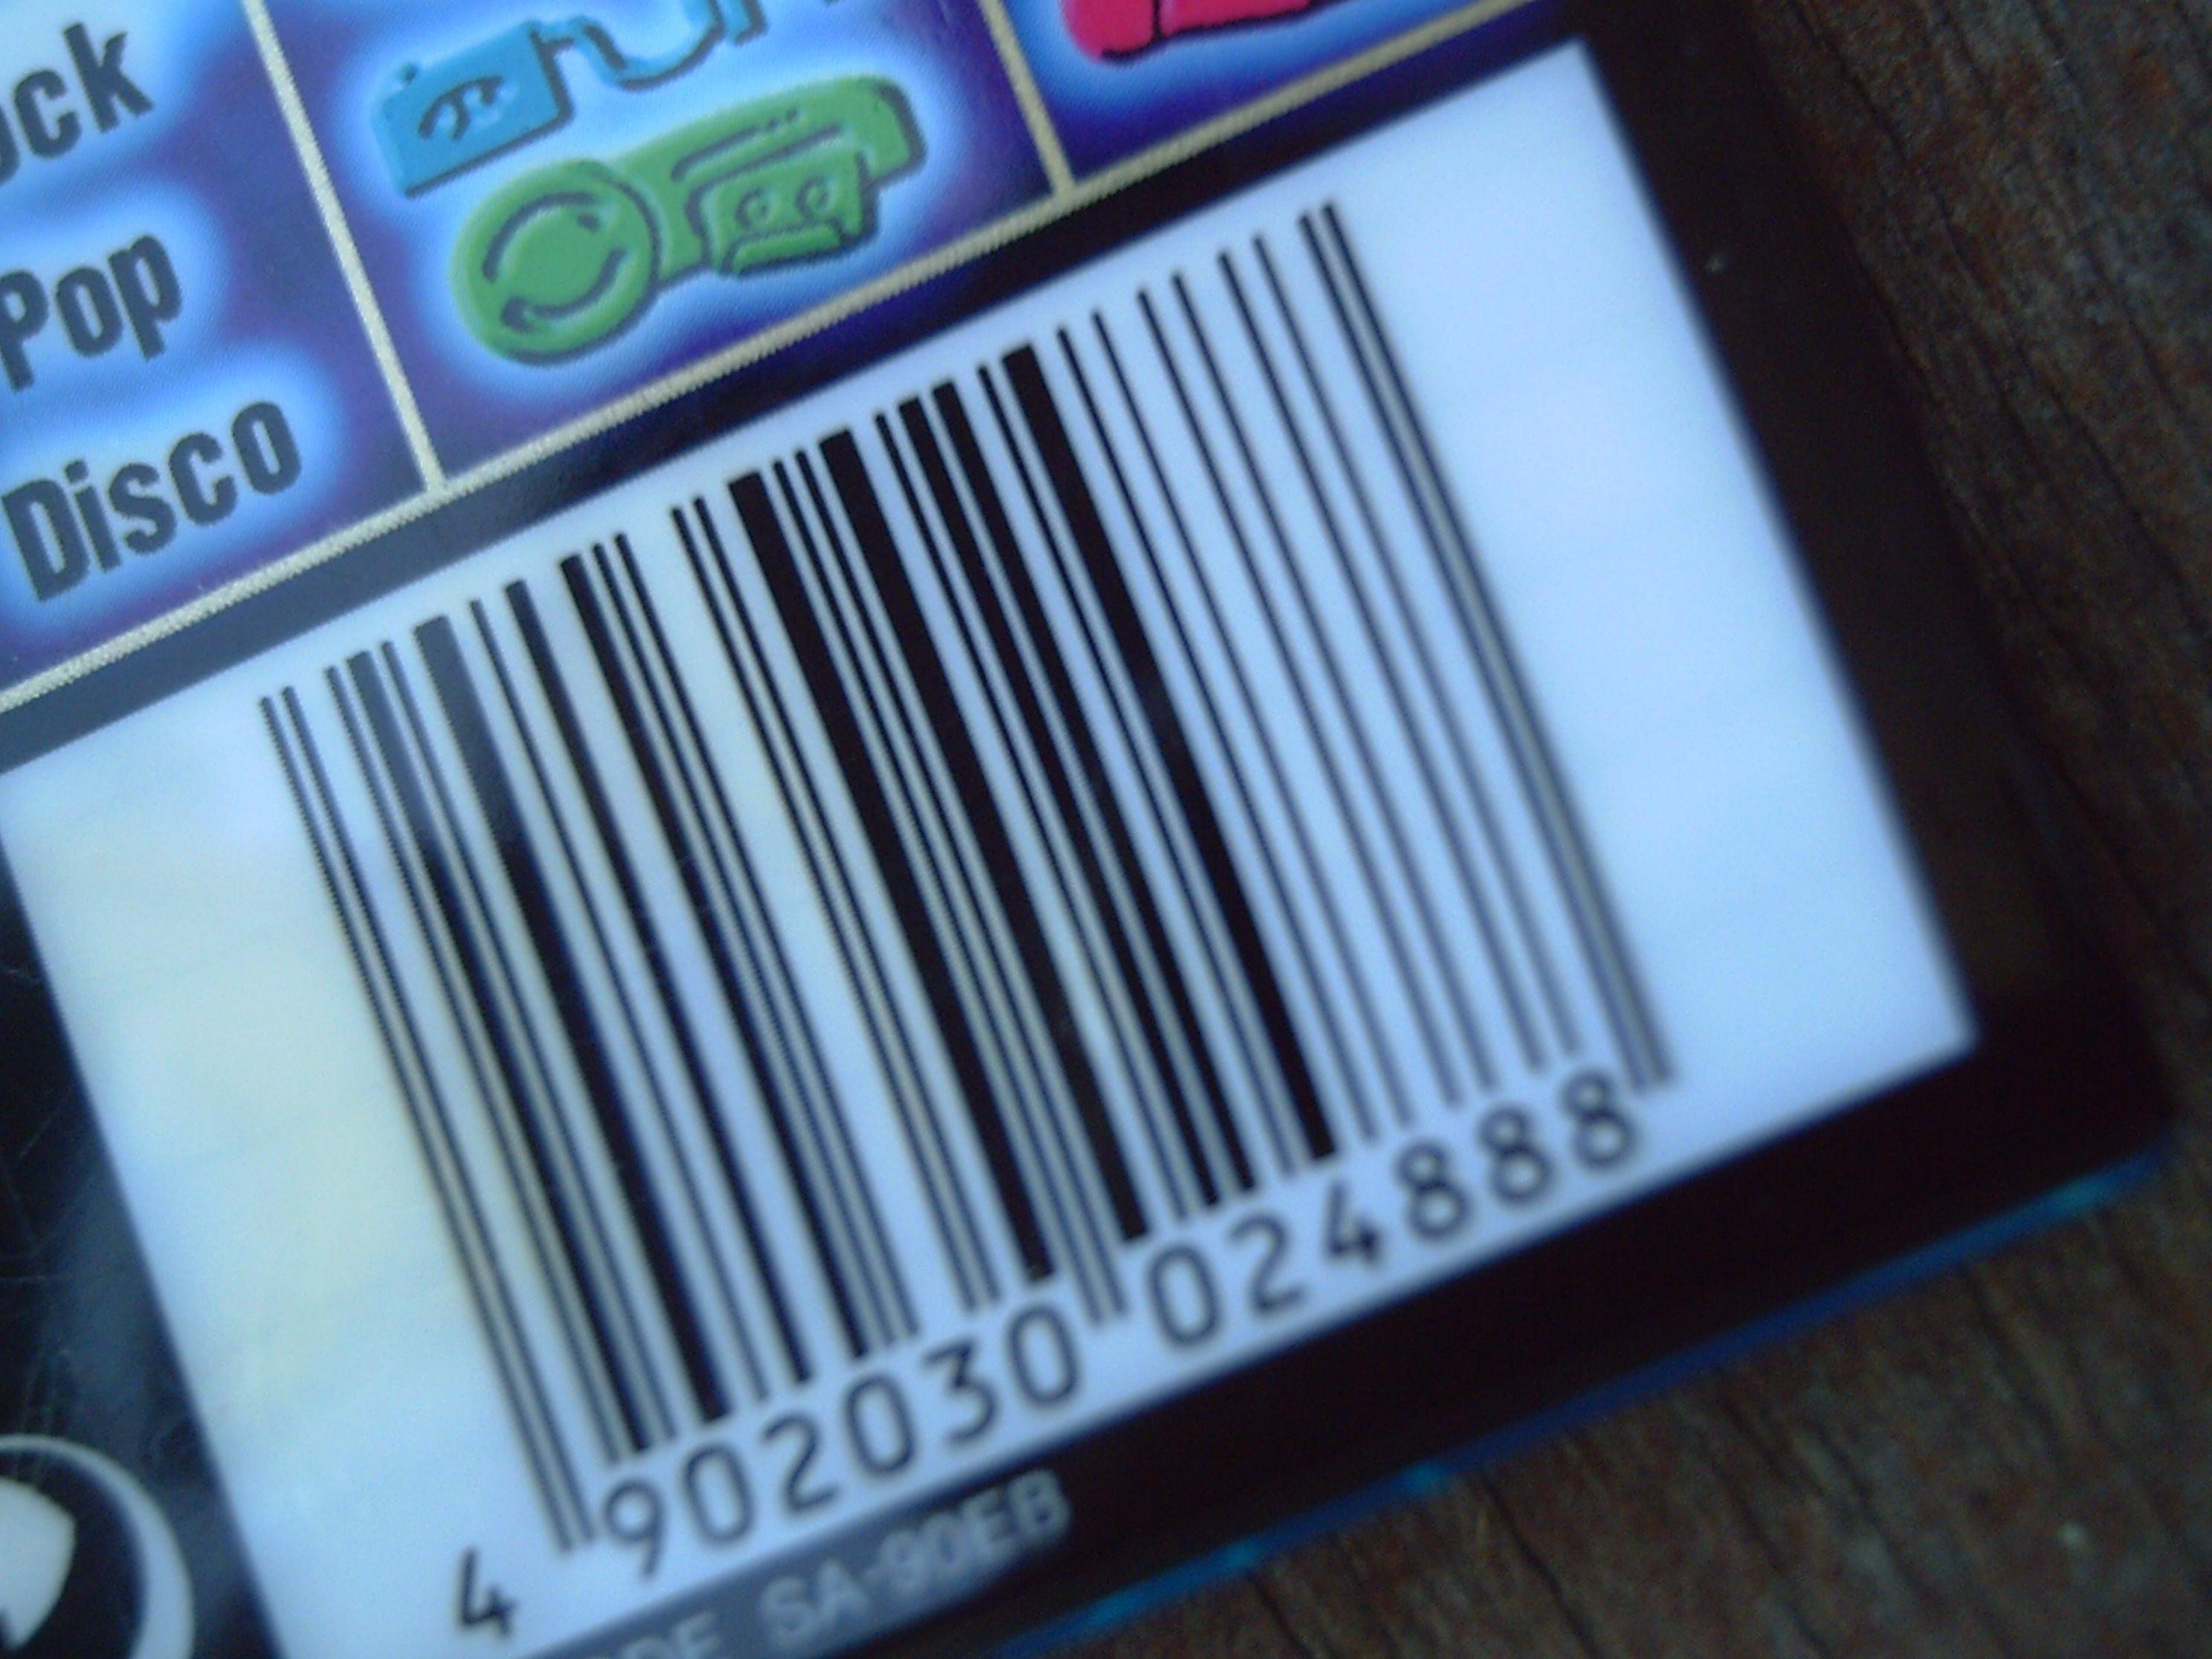barcode: (0, 40, 1977, 1654)
